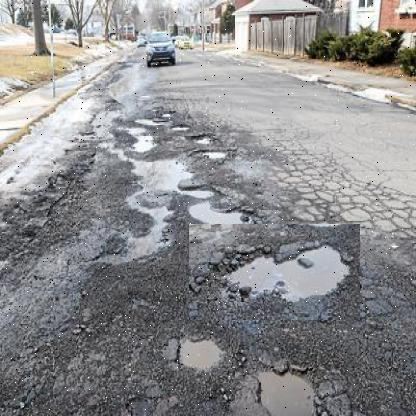damage: (110, 89, 244, 265), (2, 125, 99, 268)
pothole_water: (189, 224, 361, 321)
